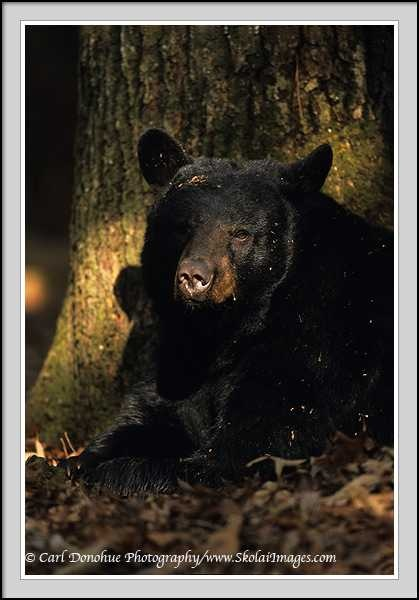bear: (147, 195, 275, 323), (133, 124, 261, 252), (214, 137, 342, 265)
